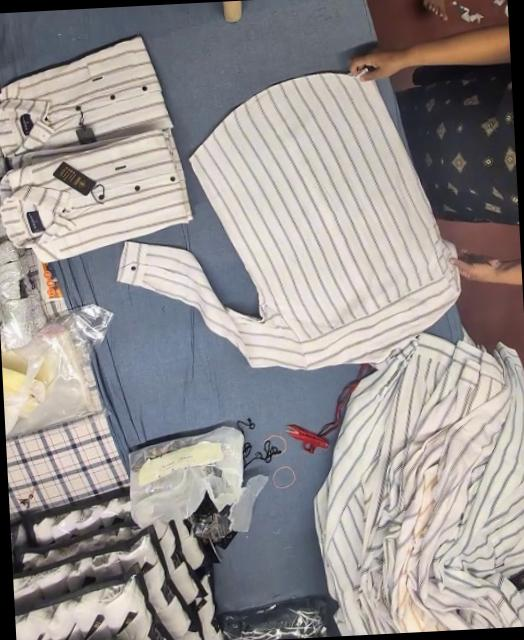new-garment: (119, 73, 460, 369)
